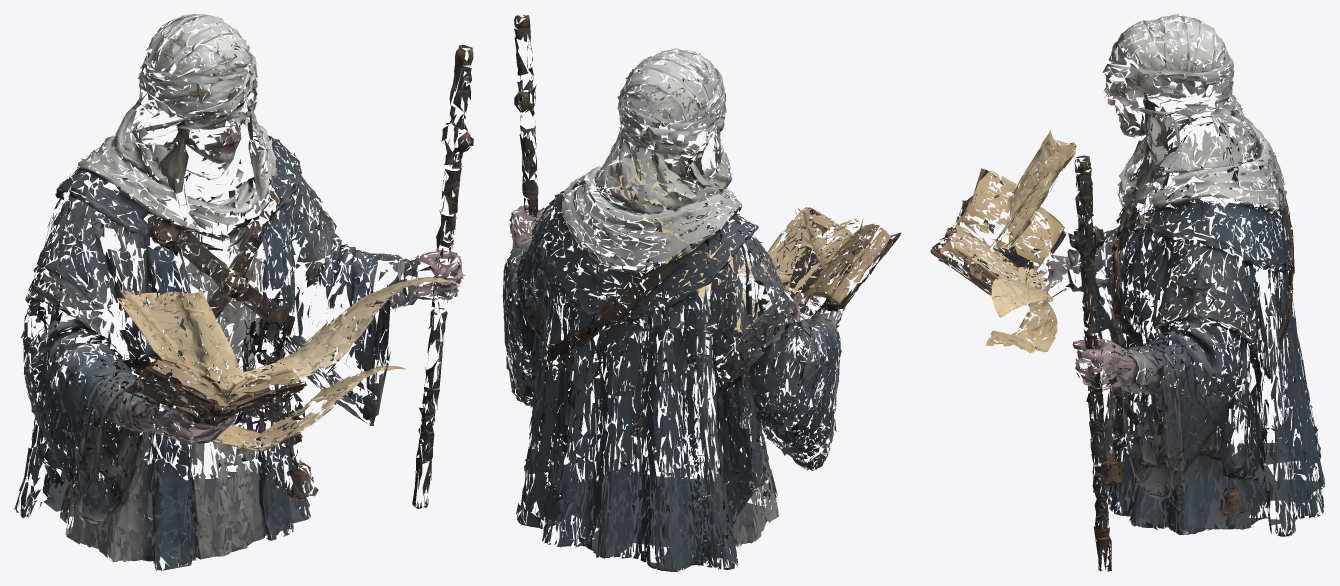
Rendered from seer_hero.glb.
3 renders of one model, left to right at view 1: azimuth 30°, elevation 25°; view 2: azimuth 150°, elevation 25°; view 3: azimuth 270°, elevation 25°, orthographic. The views are drawn at different scales.
Parts seen in each view (by area): view 1: tripo_node_50af337c-fcf7-4ca0-978b-3c8b9e5c14f0; view 2: tripo_node_50af337c-fcf7-4ca0-978b-3c8b9e5c14f0; view 3: tripo_node_50af337c-fcf7-4ca0-978b-3c8b9e5c14f0.
Boxes of the visible parts, bbox=[...] form: tripo_node_50af337c-fcf7-4ca0-978b-3c8b9e5c14f0: bbox=[14, 14, 473, 570]; tripo_node_50af337c-fcf7-4ca0-978b-3c8b9e5c14f0: bbox=[502, 15, 901, 571]; tripo_node_50af337c-fcf7-4ca0-978b-3c8b9e5c14f0: bbox=[930, 14, 1324, 571].
Size of the model in its own units: 1.53 by 1.9 by 1.45.
Materials: 1 (1 with a texture image).
